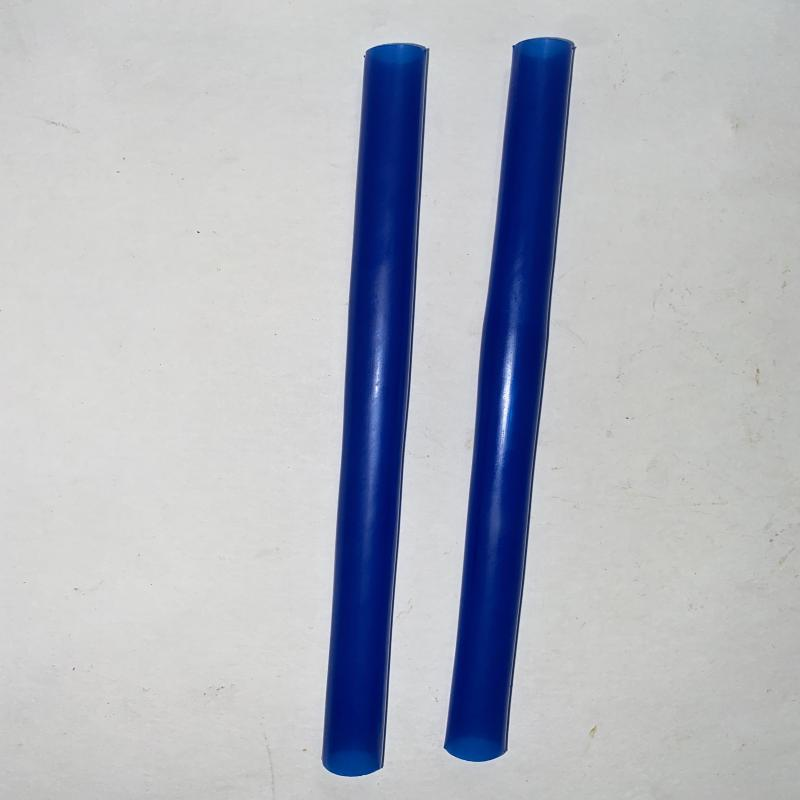plastic straw: (442, 37, 577, 766), (320, 44, 432, 781)
